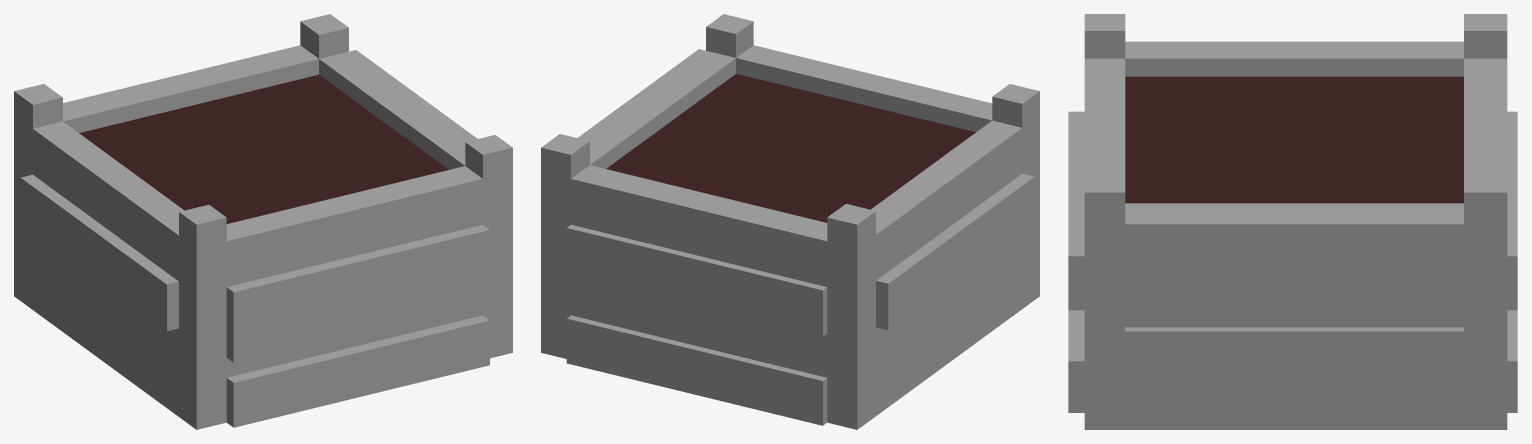
Rendered from FlowerField.fbx.
3 renders of one model, left to right at view 1: azimuth 30°, elevation 25°; view 2: azimuth 150°, elevation 25°; view 3: azimuth 270°, elevation 25°, orthographic. The views are drawn at different scales.
Visible parts, largest first — view 1: pCube7; view 2: pCube7; view 3: pCube7.
Boxes of the visible parts, left/top/right/bottom form: pCube7: left=14, top=14, right=512, bottom=429; pCube7: left=541, top=14, right=1039, bottom=429; pCube7: left=1068, top=14, right=1517, bottom=429.
Bounding box in the file's own units: 4.68 × 2.73 × 4.69.
